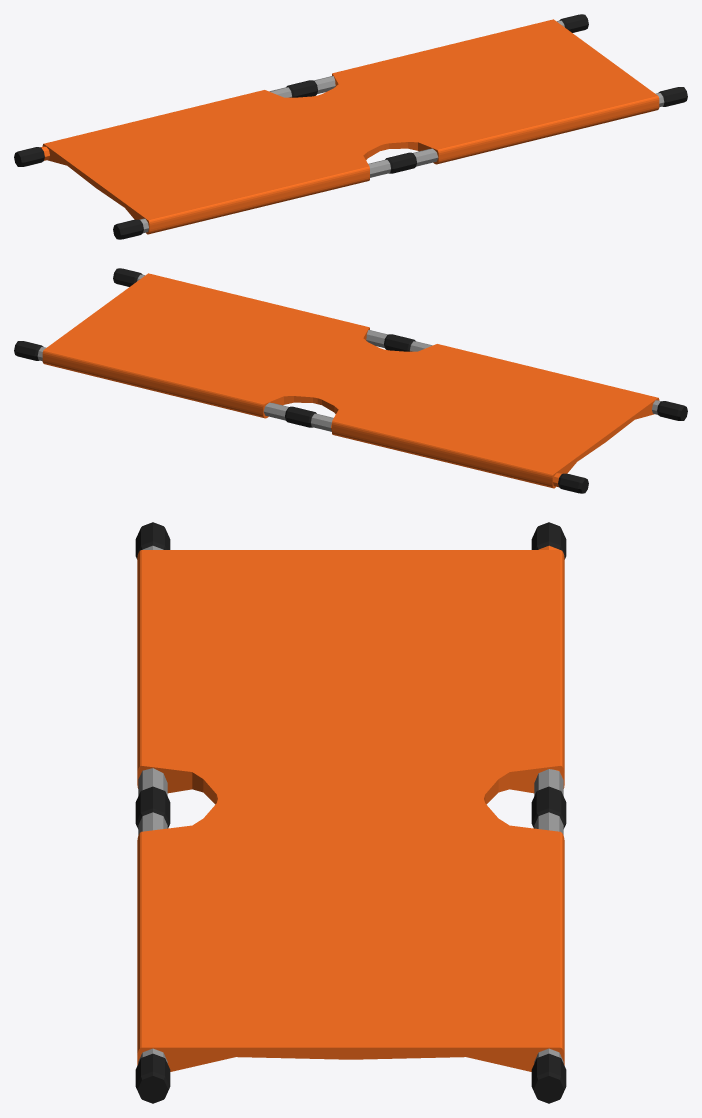
Rendered from Stretcher.fbx.
The picture shows the model from 3 angles, top to bottom: view 1: azimuth 30°, elevation 25°; view 2: azimuth 150°, elevation 25°; view 3: azimuth 270°, elevation 25°; orthographic projection. The views are drawn at different scales.
Visible parts, largest first — view 1: Stretcher; view 2: Stretcher; view 3: Stretcher.
Boxes of the visible parts, <box> form: Stretcher: <box>14,14,687,239</box>; Stretcher: <box>14,268,687,493</box>; Stretcher: <box>135,522,566,1103</box>.
Size of the model in its own units: 177 by 4.7 by 58.3.
